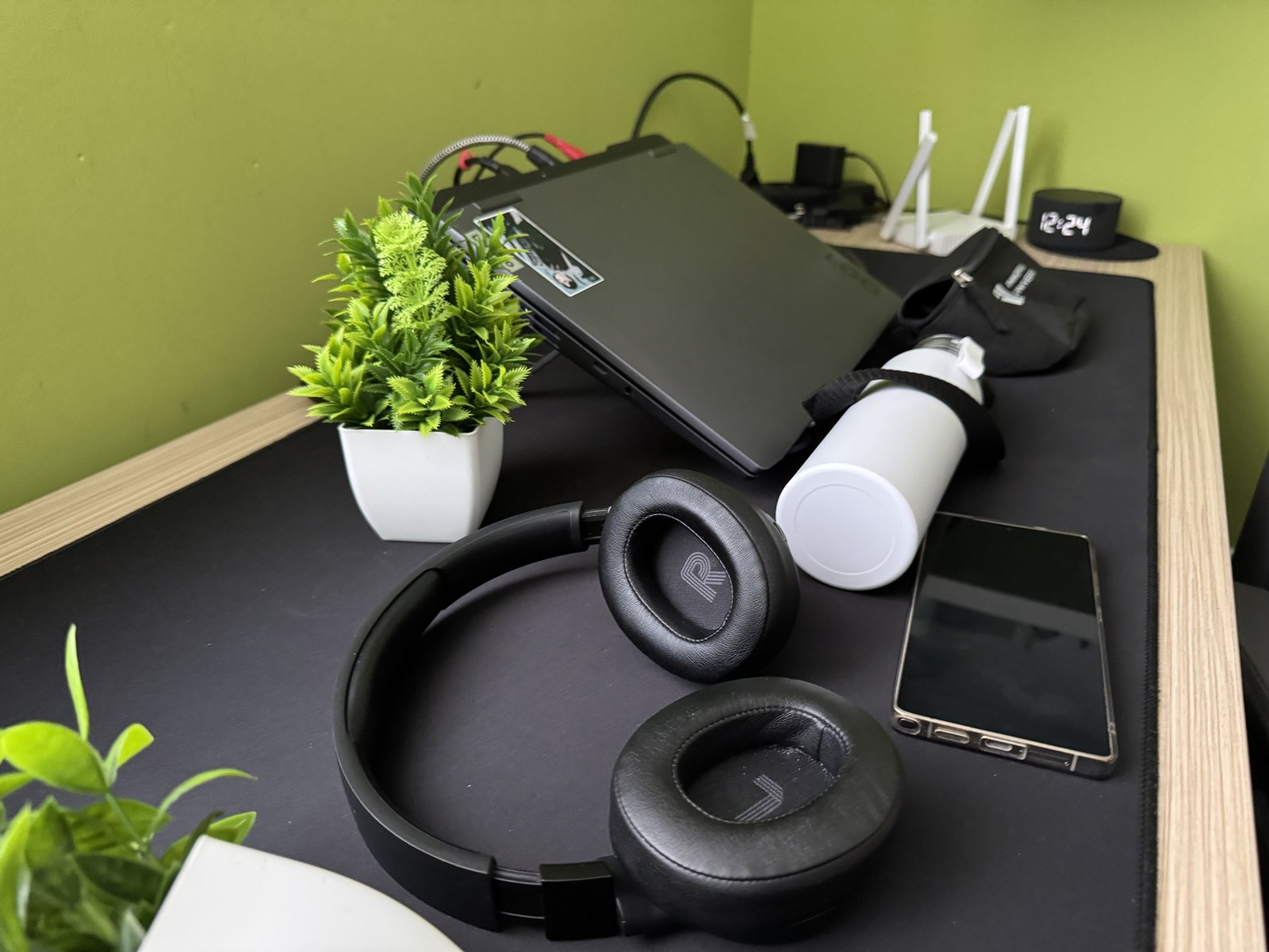cell phone: (890, 510, 1120, 780)
laptop: (401, 140, 903, 479)
